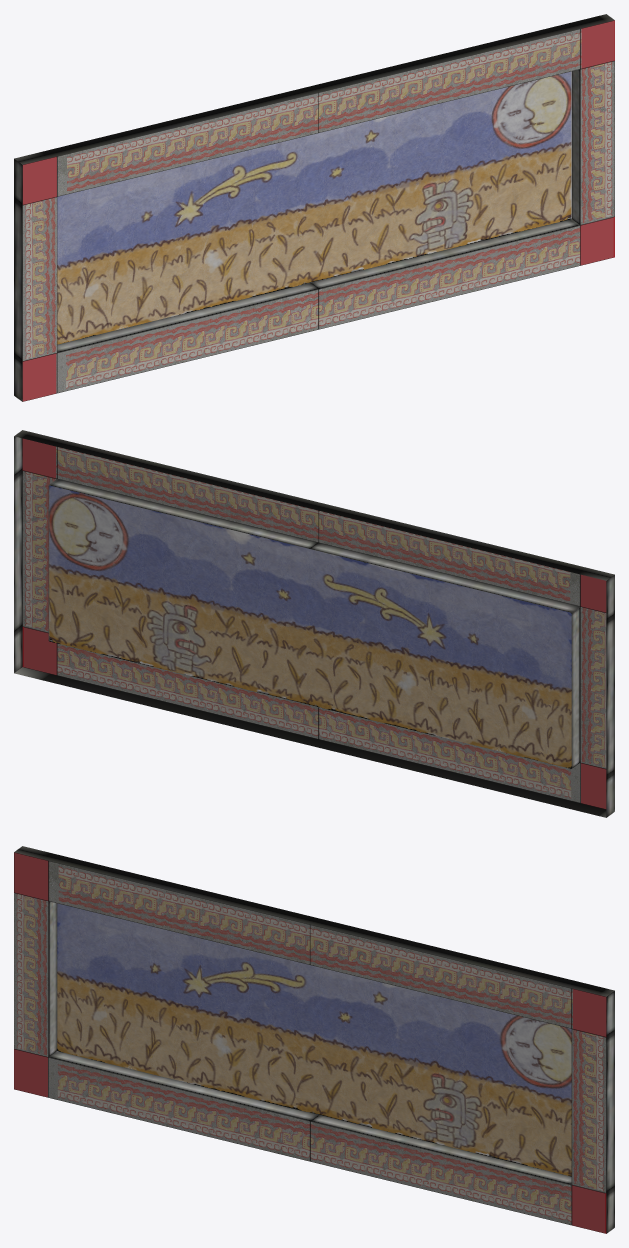
File: Mural_Presente.glb
3 renders of one model, top to bottom at view 1: azimuth 30°, elevation 25°; view 2: azimuth 150°, elevation 25°; view 3: azimuth 330°, elevation 25°, orthographic.
Parts seen in each view (by area): view 1: Mural_Interior_Futuro, Mural_Guarda_Futuro; view 2: Mural_Interior_Futuro, Mural_Guarda_Futuro; view 3: Mural_Interior_Futuro, Mural_Guarda_Futuro.
Boxes of the visible parts, <box> form: Mural_Interior_Futuro: <box>57,71,571,344</box>; Mural_Guarda_Futuro: <box>14,14,614,401</box>; Mural_Interior_Futuro: <box>49,485,571,768</box>; Mural_Guarda_Futuro: <box>14,430,614,817</box>; Mural_Interior_Futuro: <box>57,903,571,1176</box>; Mural_Guarda_Futuro: <box>14,846,614,1233</box>.
Size of the model in its own units: 2.04 by 0.7804 by 0.0509.
2 materials, 2 textured.
